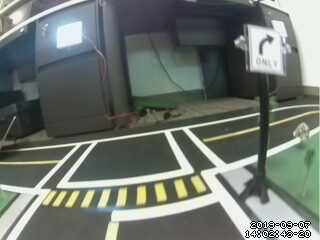Right_only_sign: (248, 25, 285, 73)
